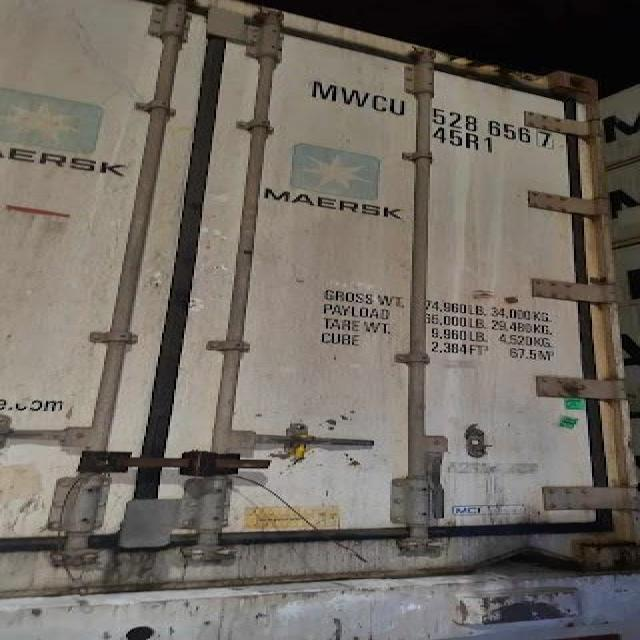ISO: (434, 126, 500, 156)
container_number: (306, 76, 560, 152)
